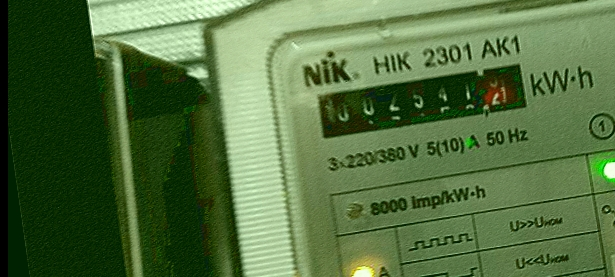0: (331, 96, 353, 125), (359, 90, 376, 119)
1: (457, 74, 474, 102)
2: (382, 86, 402, 113)
4: (434, 78, 450, 103)
5: (407, 81, 429, 112)
6: (486, 87, 504, 107)
screen: (302, 48, 543, 151)
